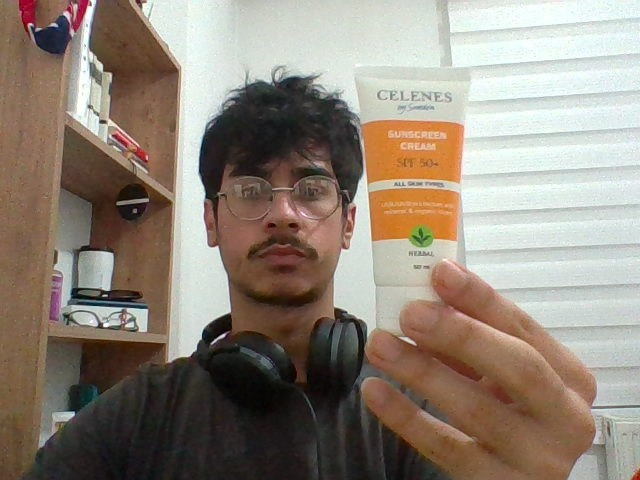CelenesSunCream: (354, 60, 483, 328)
